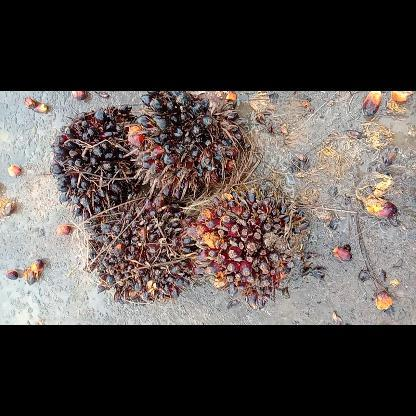TBS abnormal: (124, 92, 252, 196), (48, 104, 152, 222)
TBS masak: (186, 182, 312, 312), (80, 193, 202, 307)
